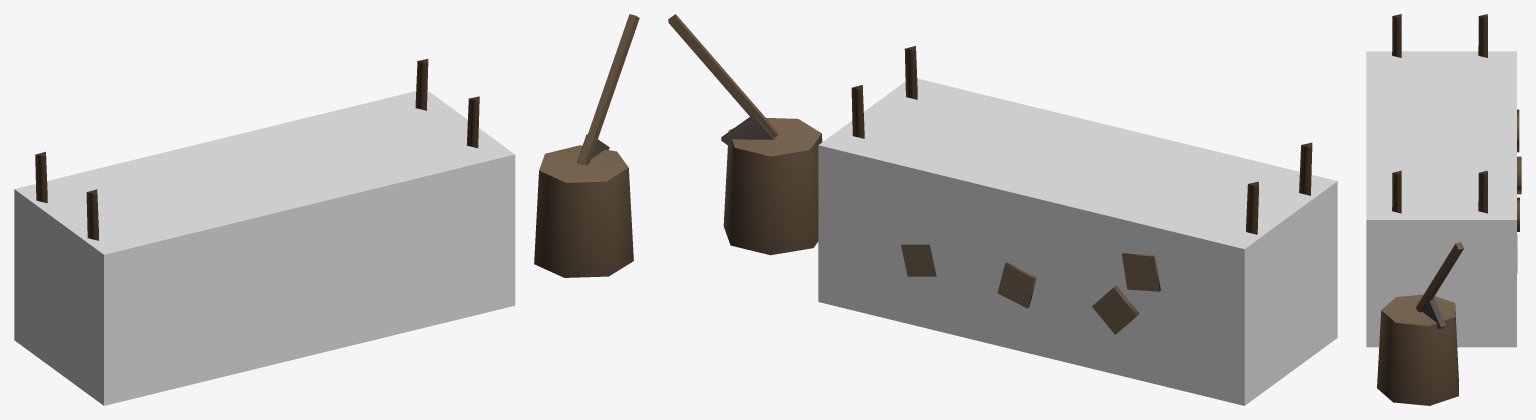
Rendered from woodpile.glb.
3 views of the same model, side by side, from view 1: azimuth 30°, elevation 25°; view 2: azimuth 150°, elevation 25°; view 3: azimuth 270°, elevation 25° (orthographic). The views are drawn at different scales.
Parts seen in each view (by area): view 1: COL_pile, woodpile; view 2: COL_pile, woodpile; view 3: COL_pile, woodpile.
Part boxes in pixels (x1=…): COL_pile: x1=14, y1=90, x2=515, y2=405; woodpile: x1=35, y1=14, x2=639, y2=277; COL_pile: x1=818, y1=78, x2=1337, y2=405; woodpile: x1=668, y1=14, x2=1312, y2=334; COL_pile: x1=1366, y1=51, x2=1516, y2=347; woodpile: x1=1377, y1=14, x2=1521, y2=405.
Size of the model in its own units: 2.66 by 0.9105 by 0.7216.
